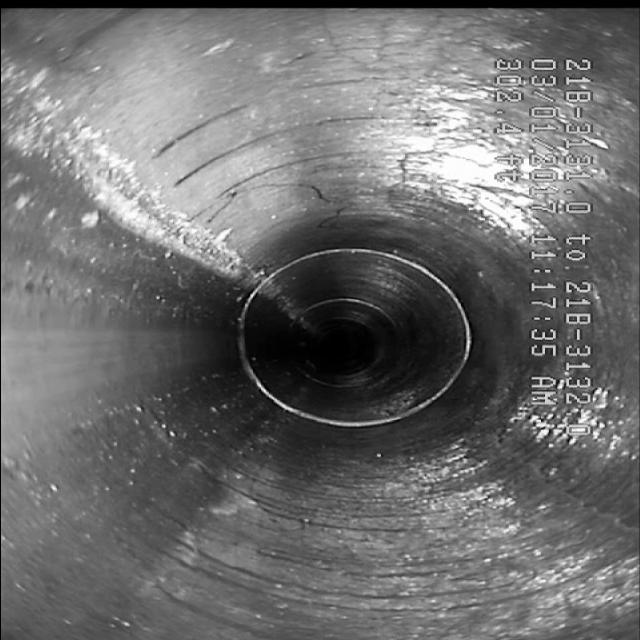Crack: (382, 75, 452, 231), (226, 178, 366, 232)
